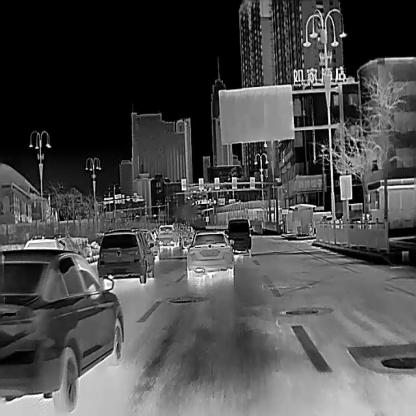car: (0, 250, 124, 411), (96, 226, 155, 282), (185, 230, 234, 277), (224, 217, 252, 254), (22, 235, 77, 253), (140, 228, 160, 257), (158, 224, 178, 245)
